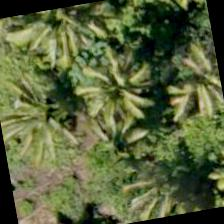Kelapa_Sawit: (65, 44, 170, 148), (0, 62, 88, 166), (99, 135, 203, 223), (151, 34, 223, 135), (16, 0, 115, 69)
